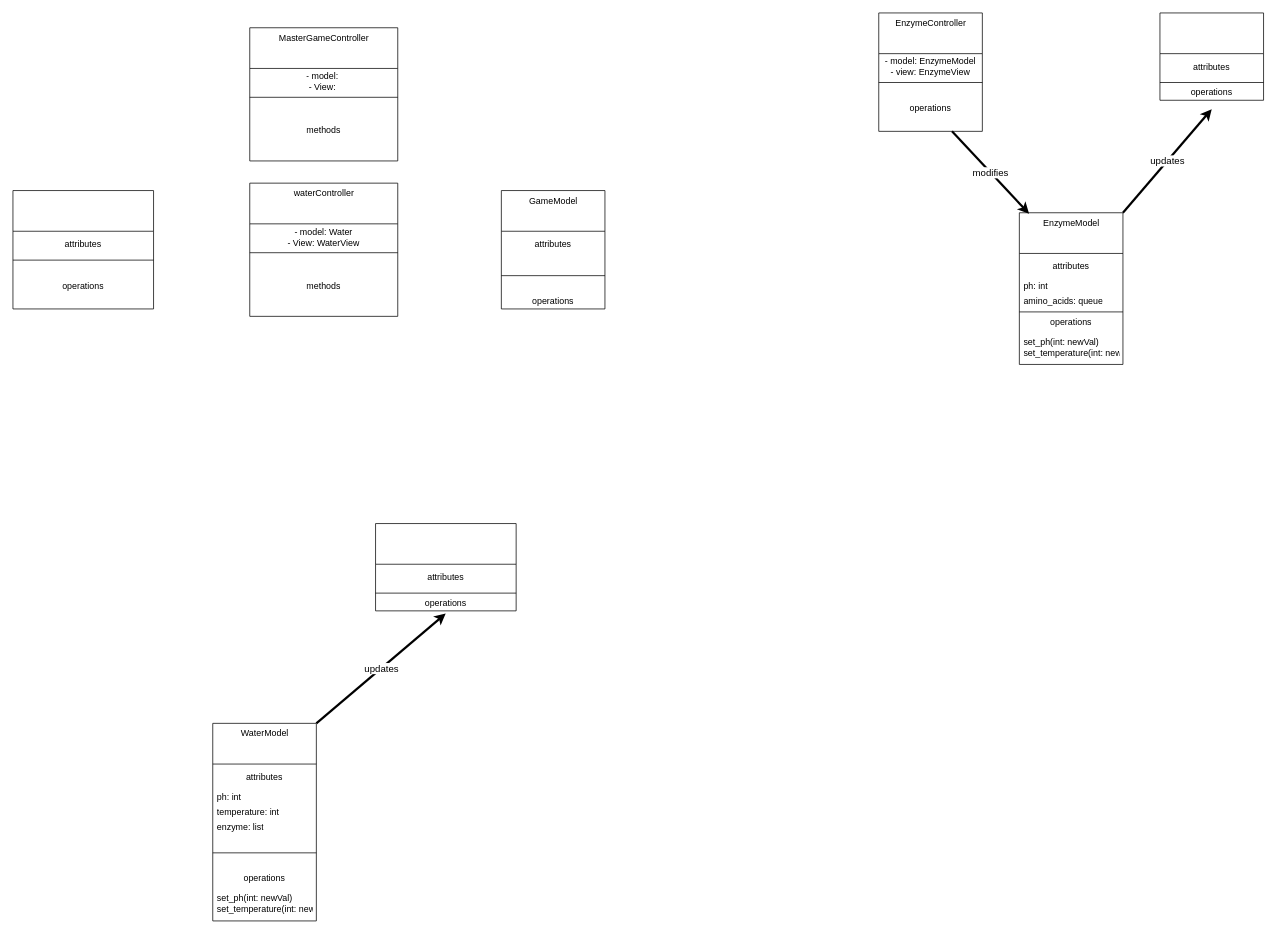
Some shapes in this 1277 by 934 pixel diagram are drawn without their labels. Each missing label, with the box of its shape:
EnzymeView: (1159, 12, 1264, 100)
GameView: (12, 190, 154, 309)
WaterView: (375, 523, 516, 611)
